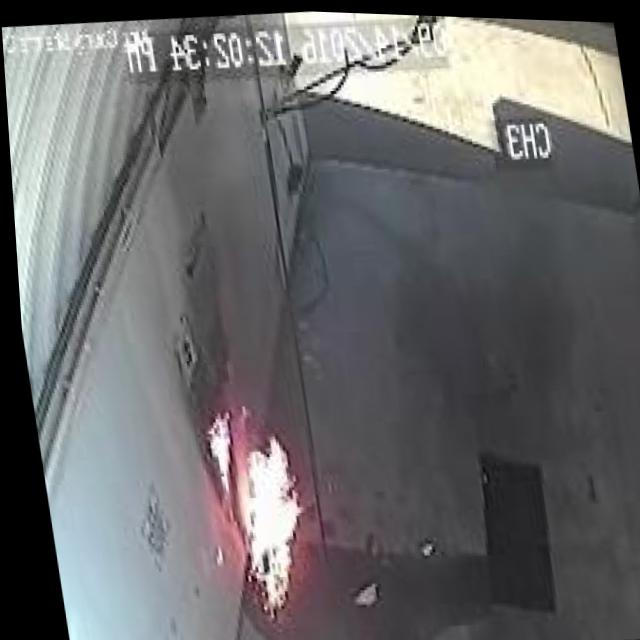fire: (178, 392, 324, 636)
